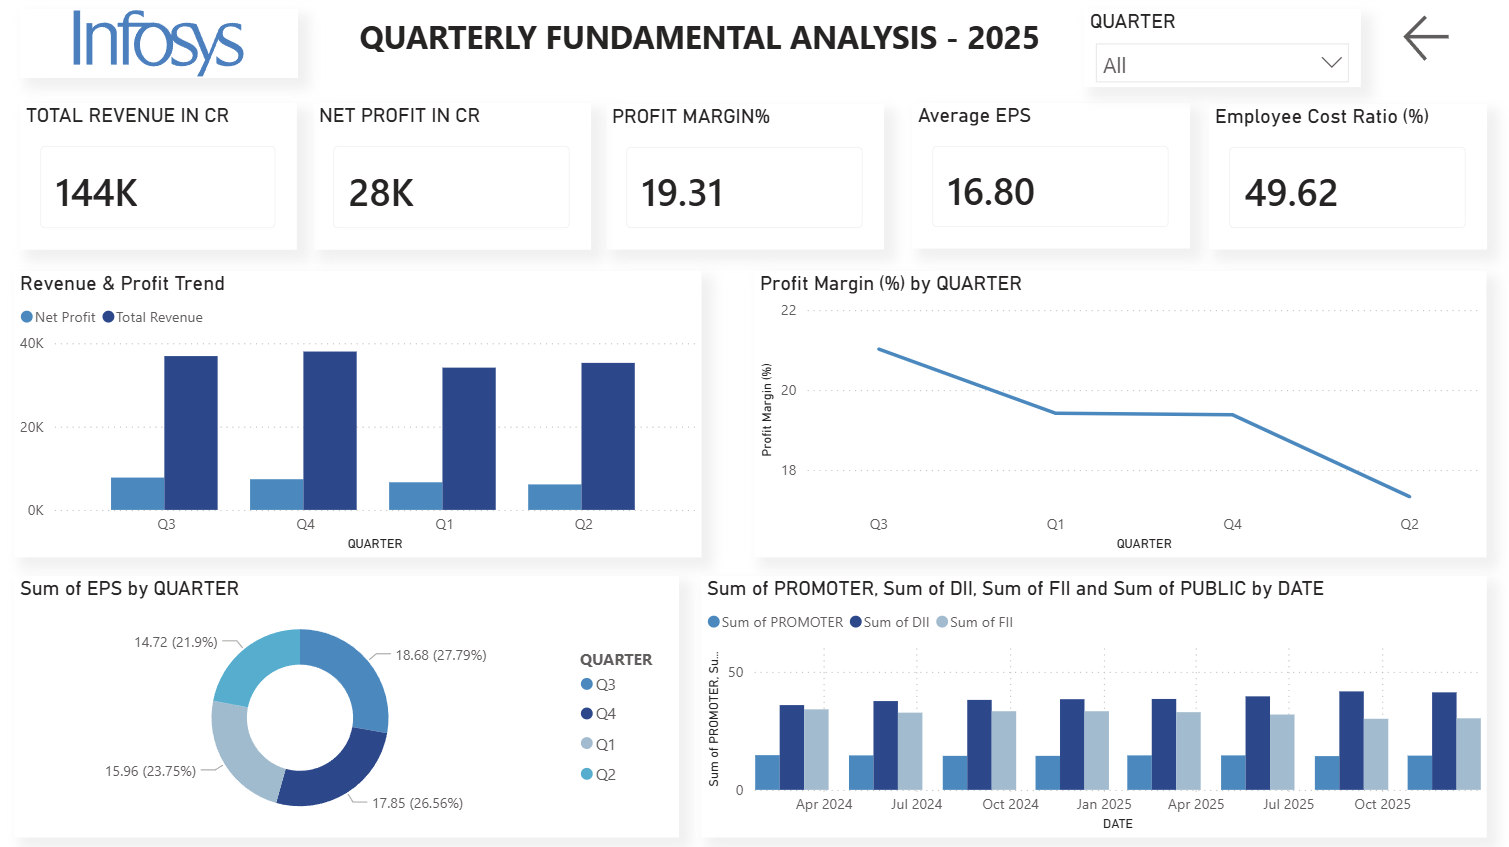

Layout of this report page (visuals, bound fields, positions):
{"tool":"powerbi","page":{"name":"Financial Analysis","canvas":[1280,720],"ordinal":1},"visuals":[{"type":"image","box":[19.1,8.1,234.8,58.5],"z":0},{"type":"cardVisual","title":"PROFIT MARGIN%","fields":{"Data":["FINANCIAL ANALYSIS.Profit Margin (%)"]},"box":[515,88.7,234.8,123],"z":1000},{"type":"cardVisual","title":"NET PROFIT IN CR","fields":{"Data":["FINANCIAL ANALYSIS.Net Profit"]},"box":[267.1,87.7,234.8,124],"z":2000},{"type":"cardVisual","title":"TOTAL REVENUE IN CR","fields":{"Data":["FINANCIAL ANALYSIS.Total Revenue"]},"box":[19.1,87.7,233.8,124],"z":3000},{"type":"cardVisual","title":"Average EPS","fields":{"Data":["FINANCIAL ANALYSIS.Average EPS"]},"box":[773,87.7,234.8,123],"z":4000},{"type":"cardVisual","title":"Employee Cost Ratio (%)","fields":{"Data":["FINANCIAL ANALYSIS.Employee Cost Ratio (%)"]},"box":[1024,88.7,234.8,123],"z":5000},{"type":"textbox","box":[284.2,8.1,619.8,65.5],"z":6000},{"type":"actionButton","box":[1184.3,8.1,95.7,49.4],"z":7000},{"type":"clusteredColumnChart","title":"Revenue & Profit Trend","fields":{"Y":["FINANCIAL ANALYSIS.Net Profit","FINANCIAL ANALYSIS.Total Revenue"],"Category":["FINANCIAL ANALYSIS.QUARTER"]},"box":[14.1,229.8,580.5,241.9],"z":8000},{"type":"slicer","title":"QUARTER","fields":{"Values":["FINANCIAL ANALYSIS.QUARTER"]},"box":[918.2,8.1,233.8,65.5],"z":9000},{"type":"lineChart","fields":{"Y":["FINANCIAL ANALYSIS.Profit Margin (%)"],"Category":["FINANCIAL ANALYSIS.QUARTER"]},"box":[640,229.8,618.8,241.9],"z":10000},{"type":"lineClusteredColumnComboChart","fields":{"Category":["PARMOTERS.DATE"],"Y":["Sum(PARMOTERS.PROMOTER)","Sum(PARMOTERS.DII)","Sum(PARMOTERS.FII)"]},"box":[594.6,487.8,664.2,220.7],"z":10001},{"type":"donutChart","fields":{"Category":["FINANCIAL ANALYSIS.QUARTER"],"Y":["Sum(FINANCIAL ANALYSIS.EPS)"]},"box":[14.1,487.8,562.4,220.7],"z":10002}]}

Visuals, with their boxes in screenshot pixels (x1, y1, x2, y2), scaled from the page's 1280x720 canvas onto the 1509x847 screenshot:
image: select_region(23, 10, 299, 78)
"PROFIT MARGIN%" cardVisual: select_region(607, 104, 884, 249)
"NET PROFIT IN CR" cardVisual: select_region(315, 103, 592, 249)
"TOTAL REVENUE IN CR" cardVisual: select_region(23, 103, 298, 249)
"Average EPS" cardVisual: select_region(911, 103, 1188, 248)
"Employee Cost Ratio (%)" cardVisual: select_region(1207, 104, 1484, 249)
textbox: select_region(335, 10, 1066, 87)
actionButton: select_region(1396, 10, 1508, 68)
"Revenue & Profit Trend" clusteredColumnChart: select_region(17, 270, 701, 555)
"QUARTER" slicer: select_region(1082, 10, 1358, 87)
lineChart - FINANCIAL ANALYSIS.Profit Margin (%) x FINANCIAL ANALYSIS.QUARTER: select_region(754, 270, 1484, 555)
lineClusteredColumnComboChart - PARMOTERS.DATE x Sum(PARMOTERS.PROMOTER): select_region(701, 574, 1484, 833)
donutChart - FINANCIAL ANALYSIS.QUARTER x Sum(FINANCIAL ANALYSIS.EPS): select_region(17, 574, 680, 833)
